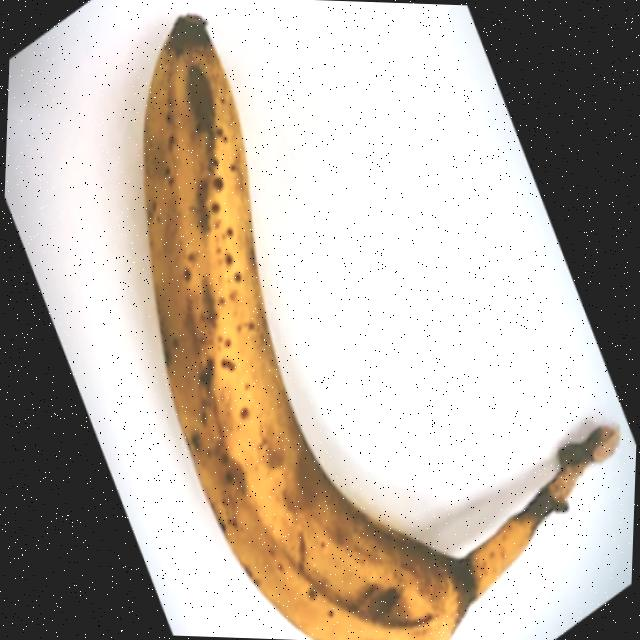overripe: (122, 10, 557, 640)
